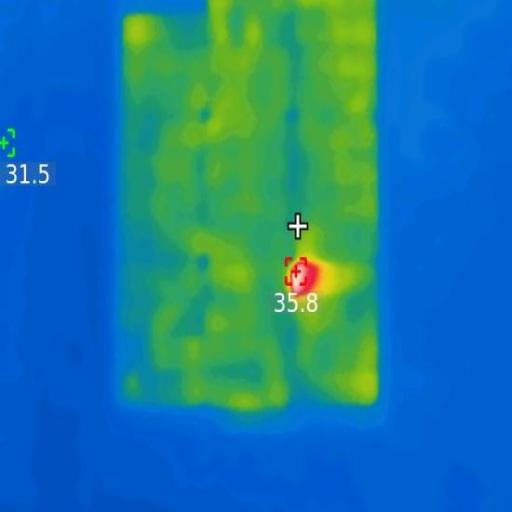hotspot: (277, 254, 327, 301)
